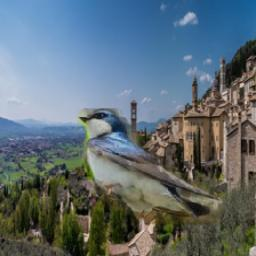Swallow: (79, 108, 224, 229)
